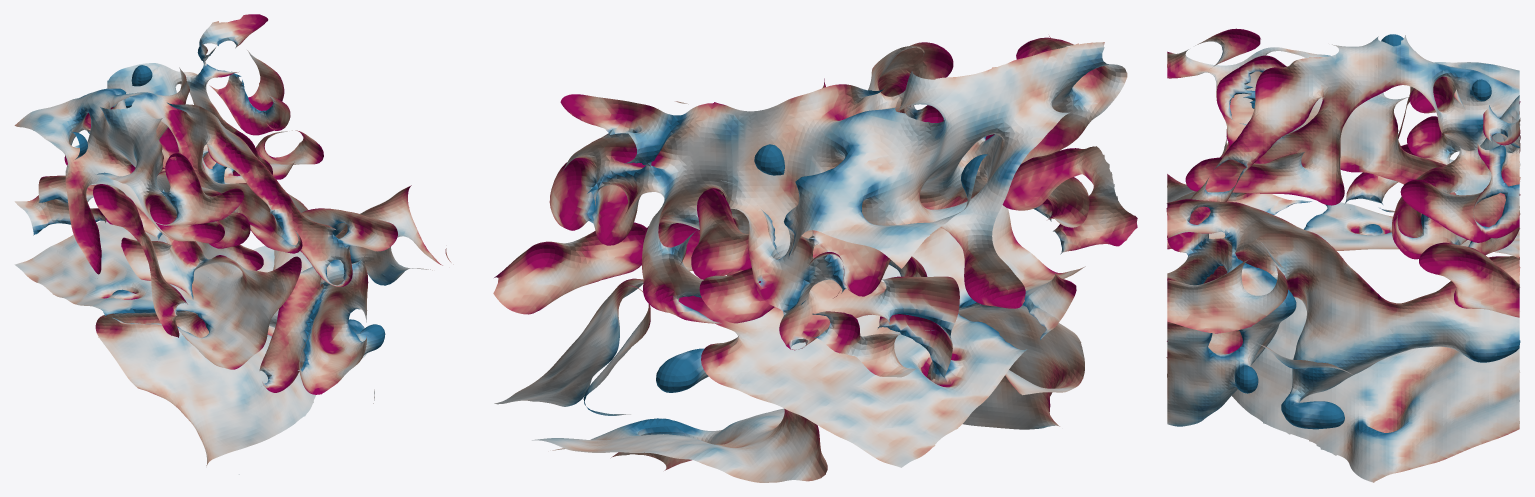
The model's file is crop1038_deviation.glb.
3 views of the same model, side by side, from view 1: azimuth 30°, elevation 25°; view 2: azimuth 150°, elevation 25°; view 3: azimuth 270°, elevation 25° (orthographic). The views are drawn at different scales.
Visible parts, largest first — view 1: world; view 2: world; view 3: world.
Boxes of the visible parts, x1,y1,x2,y2 form: world: (14,14,453,474); world: (493,36,1137,482); world: (1166,28,1520,482).
Bounding box in the file's own units: 1480 × 1480 × 1480.
